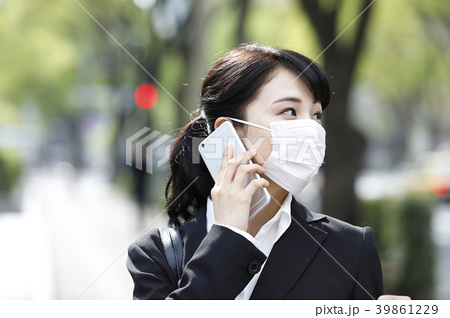mask: (264, 120, 331, 195)
